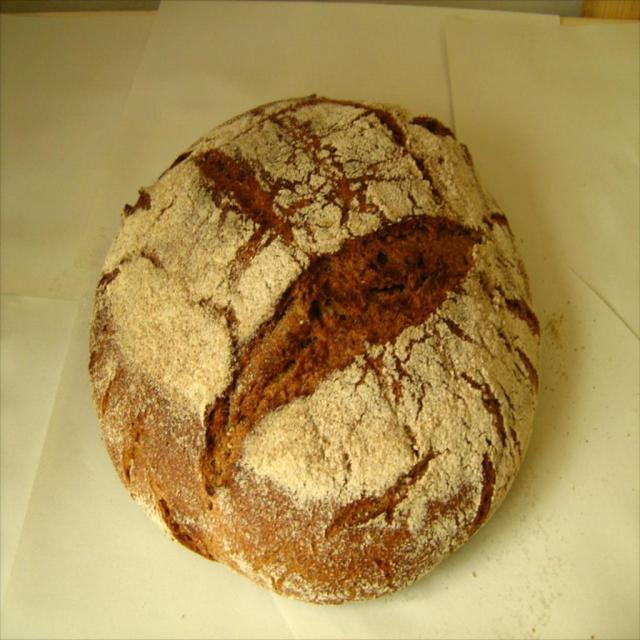Bread: (83, 90, 531, 635)
